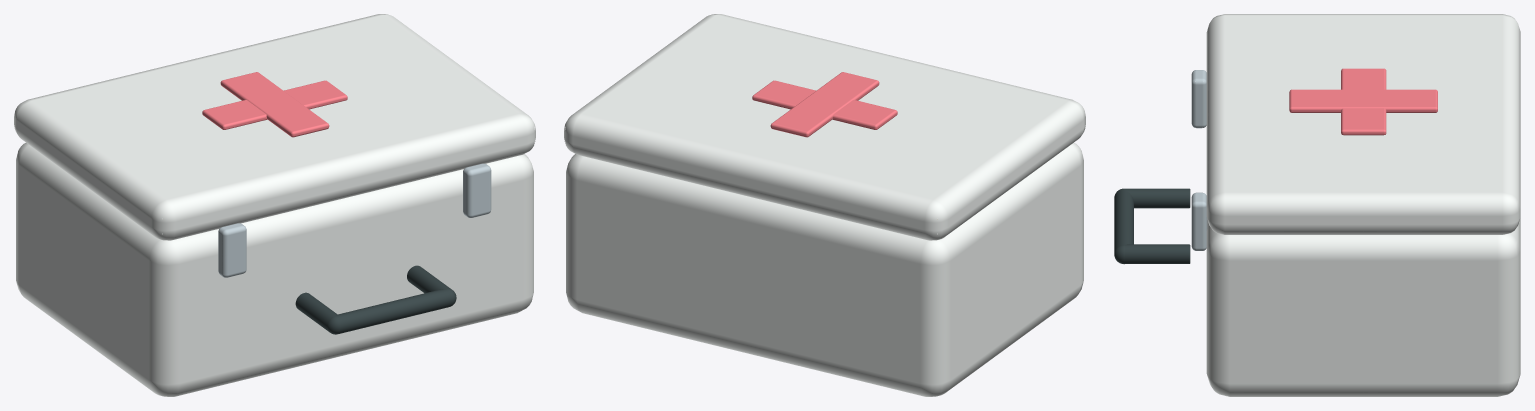
Rendered from first_aid_case.glb.
3 renders of one model, left to right at view 1: azimuth 30°, elevation 25°; view 2: azimuth 150°, elevation 25°; view 3: azimuth 270°, elevation 25°, orthographic. The views are drawn at different scales.
Visible parts, largest first — view 1: Case_Base, Lid_Shell, Cross_Vertical, Cross_Horizontal, Carry_Handle_Tube1, Latch_-0.17600000000000002, Latch_0.17600000000000002, Carry_Handle_Tube0, Carry_Handle_Tube2; view 2: Case_Base, Lid_Shell, Cross_Vertical, Cross_Horizontal; view 3: Lid_Shell, Case_Base, Cross_Vertical, Cross_Horizontal, Carry_Handle_Tube2, Carry_Handle_Tube0, Carry_Handle_Tube1, Latch_0.17600000000000002, Latch_-0.17600000000000002.
Part boxes in pixels (x1,y1,x2,y2): Case_Base: (16,143,533,396); Lid_Shell: (14,14,535,240); Cross_Vertical: (220,72,329,137); Cross_Horizontal: (202,80,347,129); Carry_Handle_Tube1: (336,289,450,333); Latch_-0.17600000000000002: (218,223,246,277); Latch_0.17600000000000002: (463,163,491,217); Carry_Handle_Tube0: (295,292,337,331); Carry_Handle_Tube2: (407,265,451,293); Case_Base: (566,143,1083,396); Lid_Shell: (564,14,1085,240); Cross_Vertical: (770,72,879,137); Cross_Horizontal: (752,80,897,129); Lid_Shell: (1206,14,1520,234); Case_Base: (1206,218,1520,396); Cross_Vertical: (1289,89,1437,112); Cross_Horizontal: (1341,68,1386,135); Carry_Handle_Tube2: (1125,244,1190,263); Carry_Handle_Tube0: (1125,188,1190,208); Carry_Handle_Tube1: (1114,189,1133,251); Latch_0.17600000000000002: (1191,192,1207,250); Latch_-0.17600000000000002: (1191,70,1206,128).
Bounding box in the file's own units: 0.55 × 0.281 × 0.492.
